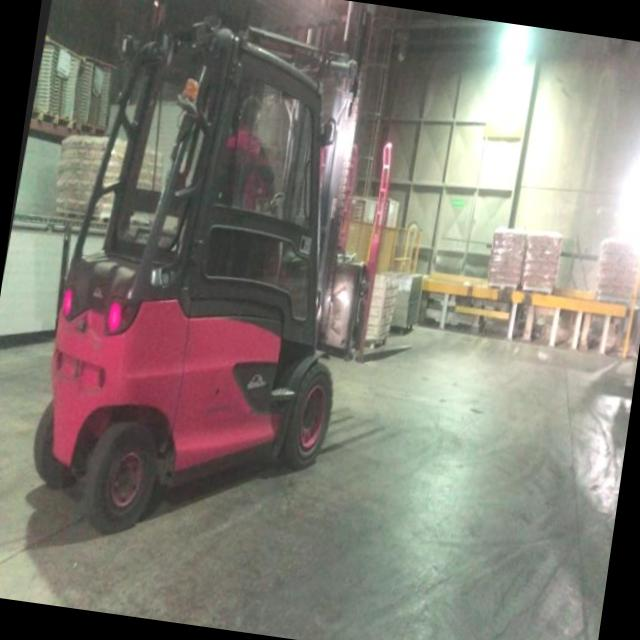driver: (217, 86, 290, 216)
forklift: (14, 0, 403, 571)
